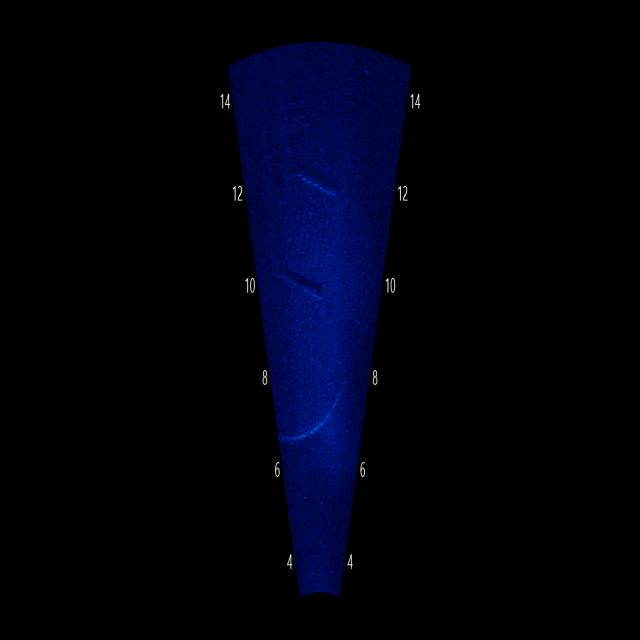square: (273, 139, 339, 315)
